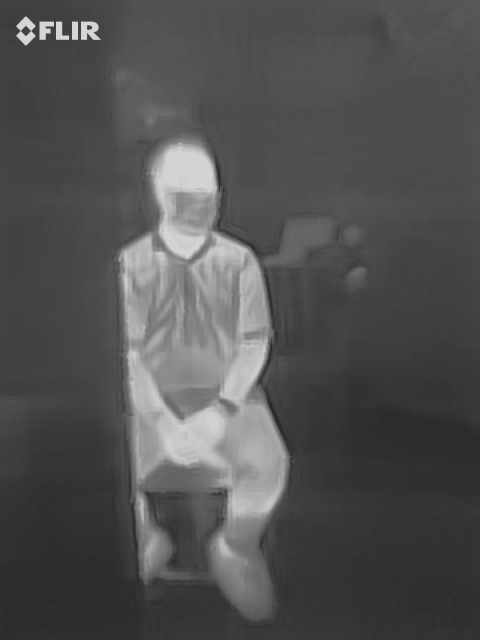head: (143, 132, 221, 237)
